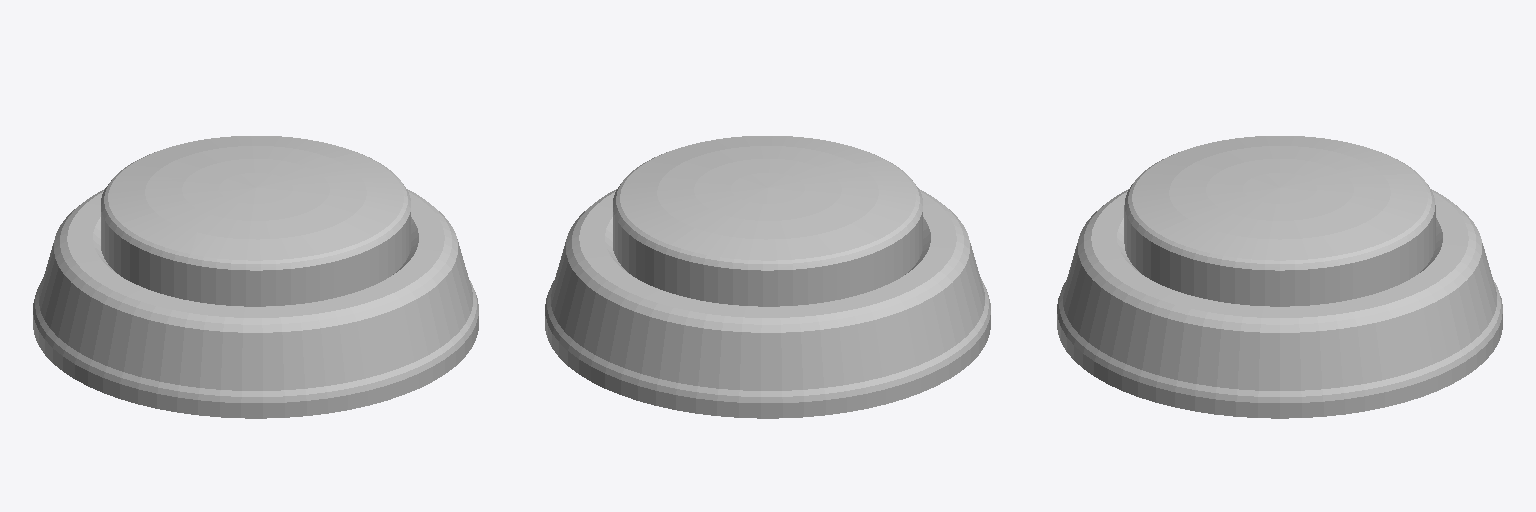
File: button.obj
3 views of the same model, side by side, from view 1: azimuth 30°, elevation 25°; view 2: azimuth 150°, elevation 25°; view 3: azimuth 270°, elevation 25° (orthographic).
Parts seen in each view (by area): view 1: COLOR, BUTTON; view 2: COLOR, BUTTON; view 3: COLOR, BUTTON.
Part boxes in pixels (x1,y1,x2,y2): COLOR: (33, 189, 478, 418); BUTTON: (101, 136, 410, 306); COLOR: (545, 189, 990, 418); BUTTON: (613, 136, 922, 306); COLOR: (1057, 189, 1502, 418); BUTTON: (1124, 136, 1435, 306).
Size of the model in its own units: 0.47 by 0.159 by 0.47.